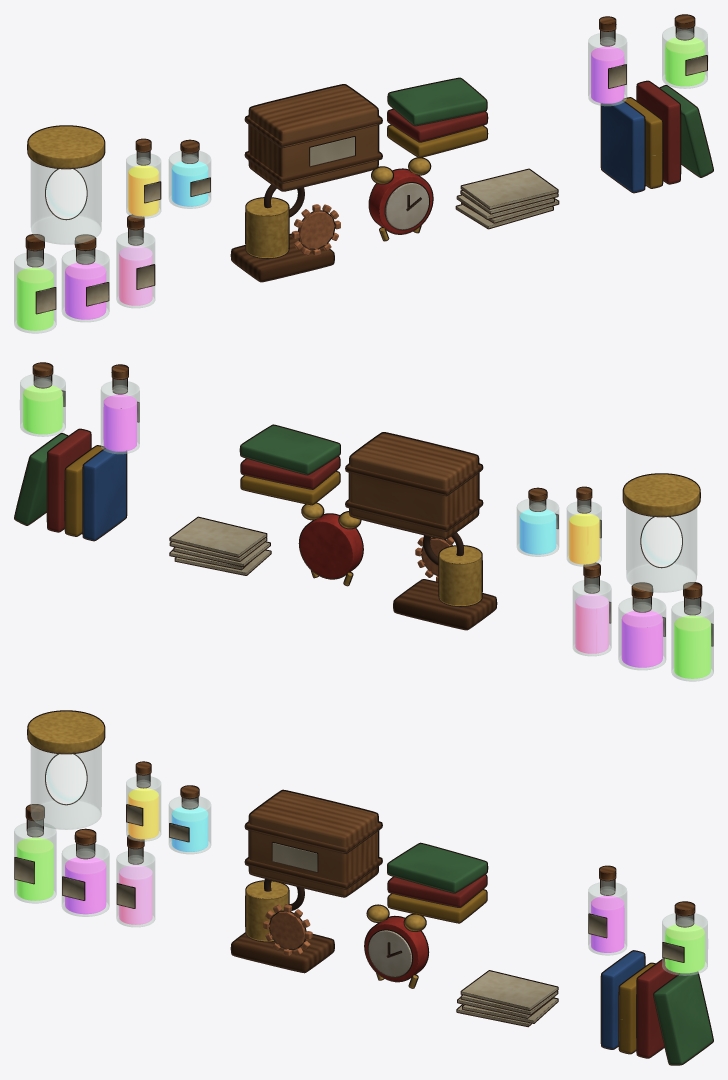
Rendered from Lab_ShelfItems.fbx.
The picture shows the model from 3 angles, top to bottom: view 1: azimuth 30°, elevation 25°; view 2: azimuth 150°, elevation 25°; view 3: azimuth 330°, elevation 25°; orthographic projection.
Parts seen in each view (by area): view 1: Item_Crate_A, Item_BrassGadget, Item_SpecimenJar_Glass, Item_SpecimenJar, Item_PaperStack, Item_AlarmClock, Item_BookMid0, Item_BookTop2, Item_Potion1_Glass, Item_Potion0_Glass, Item_Potion2_Glass, Item_Potion1 (+21 smaller); view 2: Item_Crate_A, Item_BrassGadget, Item_SpecimenJar_Glass, Item_SpecimenJar, Item_PaperStack, Item_AlarmClock, Item_BookMid0, Item_Potion1_Glass, Item_Potion0_Glass, Item_BookTop2, Item_Potion2_Glass, Item_Potion5_Glass (+20 smaller); view 3: Item_Crate_A, Item_SpecimenJar_Glass, Item_BrassGadget, Item_SpecimenJar, Item_BookMid3, Item_PaperStack, Item_AlarmClock, Item_BookTop2, Item_Potion1_Glass, Item_Potion0_Glass, Item_Potion1, Item_Potion2_Glass (+20 smaller).
Part boxes in pixels (x1,y1,x2,y2): Item_Crate_A: (246, 85, 381, 190); Item_BrassGadget: (232, 198, 340, 281); Item_SpecimenJar_Glass: (30, 159, 101, 244); Item_SpecimenJar: (28, 126, 104, 218); Item_PaperStack: (456, 169, 558, 228); Item_AlarmClock: (369, 158, 432, 240); Item_BookMid0: (601, 100, 644, 192); Item_BookTop2: (388, 78, 486, 125); Item_Potion1_Glass: (61, 249, 109, 322); Item_Potion0_Glass: (14, 250, 56, 333); Item_Potion2_Glass: (116, 229, 155, 308); Item_Potion1: (65, 235, 108, 319); Item_Crate_A: (346, 433, 481, 538); Item_BrassGadget: (394, 537, 495, 629); Item_SpecimenJar_Glass: (626, 507, 697, 592); Item_SpecimenJar: (623, 474, 699, 566); Item_PaperStack: (170, 517, 270, 574); Item_AlarmClock: (300, 503, 362, 585); Item_BookMid0: (83, 448, 126, 540); Item_Potion1_Glass: (618, 597, 666, 670); Item_Potion0_Glass: (671, 598, 713, 681); Item_BookTop2: (241, 425, 339, 474); Item_Potion2_Glass: (572, 577, 611, 656); Item_Potion5_Glass: (100, 379, 139, 454); Item_Crate_A: (246, 791, 381, 896); Item_SpecimenJar_Glass: (30, 744, 101, 829); Item_BrassGadget: (232, 881, 333, 971); Item_SpecimenJar: (28, 711, 104, 804); Item_BookMid3: (654, 972, 712, 1064); Item_PaperStack: (457, 971, 557, 1025); Item_AlarmClock: (365, 905, 427, 987); Item_BookTop2: (388, 843, 486, 892); Item_Potion1_Glass: (61, 844, 109, 916); Item_Potion0_Glass: (14, 820, 56, 903); Item_Potion1: (62, 829, 106, 914); Item_Potion2_Glass: (116, 848, 155, 927).
Bounding box in the file's own units: 8.9 × 2.19 × 0.8772.
